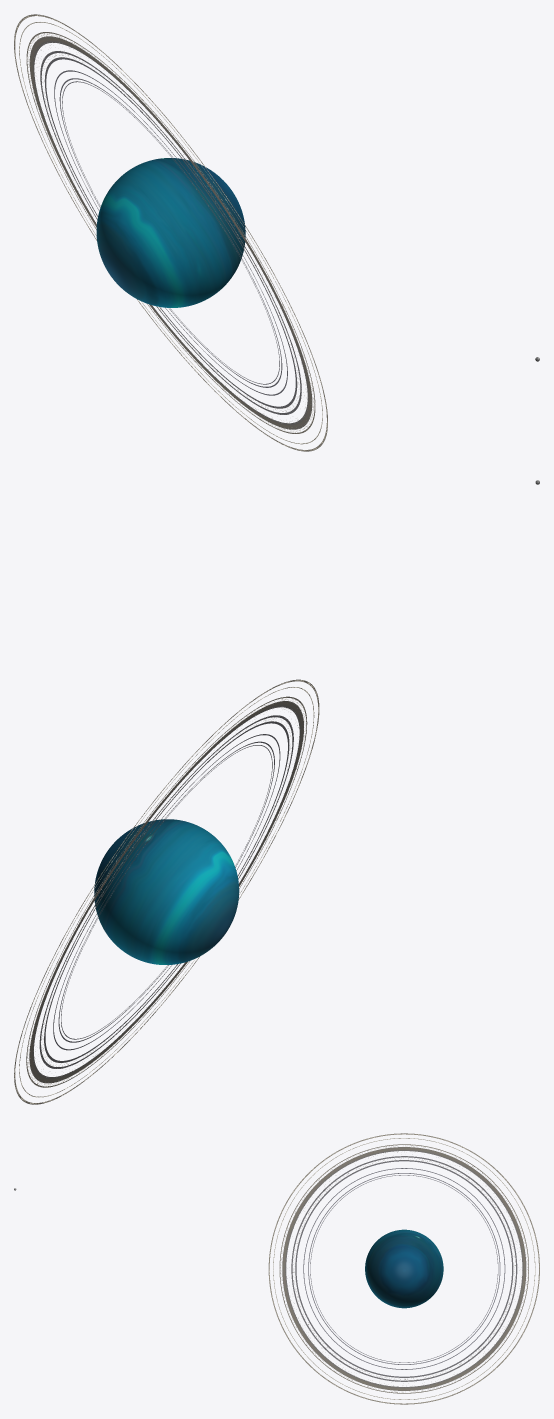
The model's file is uranus.glb.
The picture shows the model from 3 angles, top to bottom: view 1: azimuth 30°, elevation 25°; view 2: azimuth 150°, elevation 25°; view 3: azimuth 270°, elevation 25°; orthographic projection. The views are drawn at different scales.
Visible parts, largest first — view 1: uranus1_A, uranus2_A; view 2: uranus1_A, uranus2_A; view 3: uranus2_A, uranus1_A.
Part boxes in pixels (bbox=[...]): uranus1_A: bbox=[96, 158, 245, 307]; uranus2_A: bbox=[14, 14, 327, 451]; uranus1_A: bbox=[94, 819, 239, 964]; uranus2_A: bbox=[14, 679, 319, 1104]; uranus2_A: bbox=[268, 1133, 539, 1404]; uranus1_A: bbox=[365, 1229, 443, 1308].
Size of the model in its own units: 684 by 1629 by 3424.
4 materials, 4 textured.
